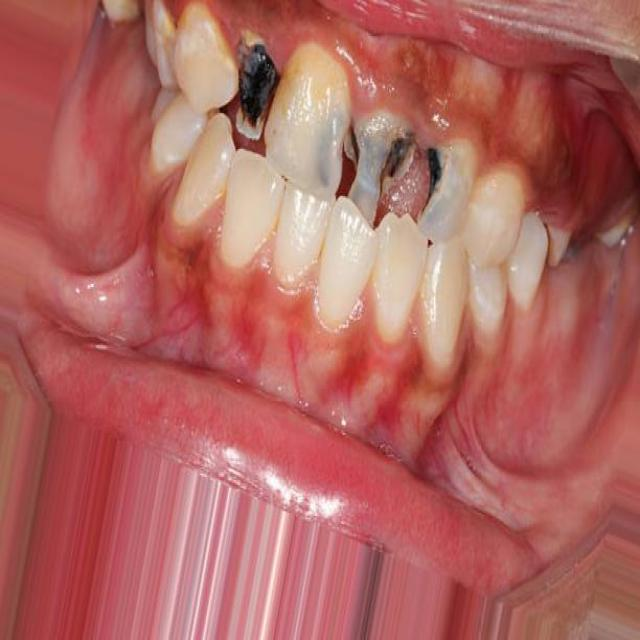caries: (340, 103, 406, 227), (413, 135, 480, 243), (227, 30, 272, 149)
